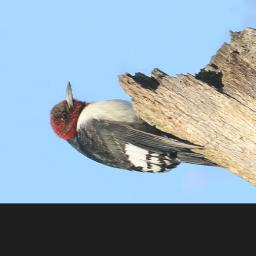Woodpecker: (46, 79, 226, 177)
